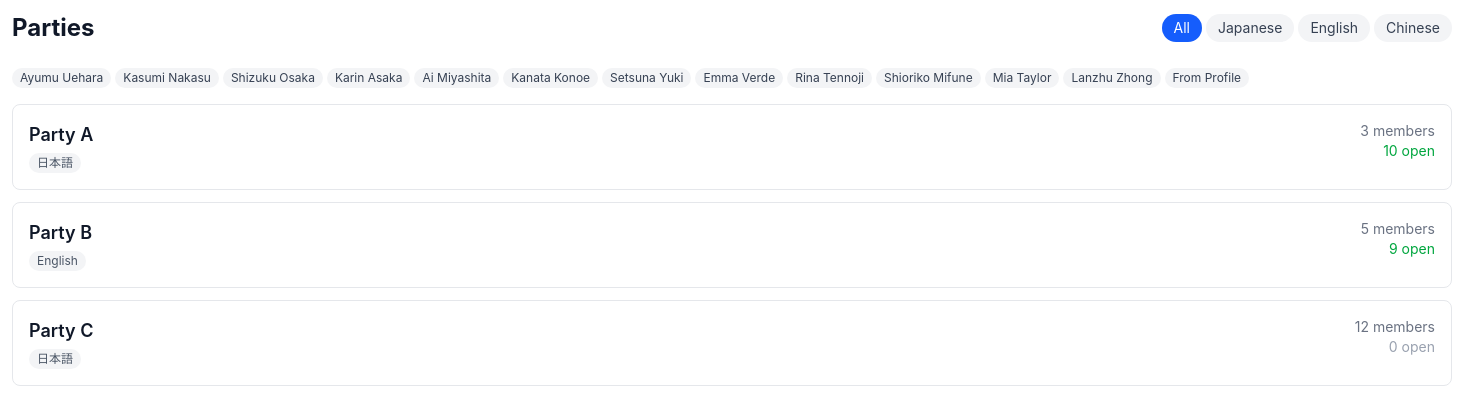
PartyList — from profile character filter › clears character filter when 'From Profile' is clicked again
Check: the heading "Party A" is shown, box [29,121,93,149]
Click the button "From Profile" at (1207, 78), box [1164,68,1249,88]
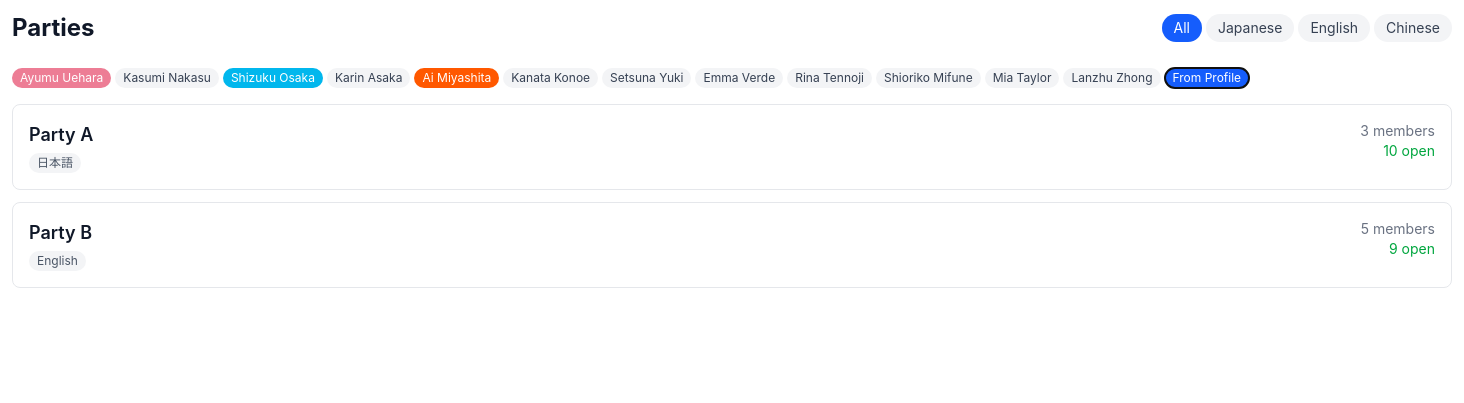
Check: the link "Party C" is gone
Click the button "From Profile" at (1207, 78), box [1164,68,1249,88]
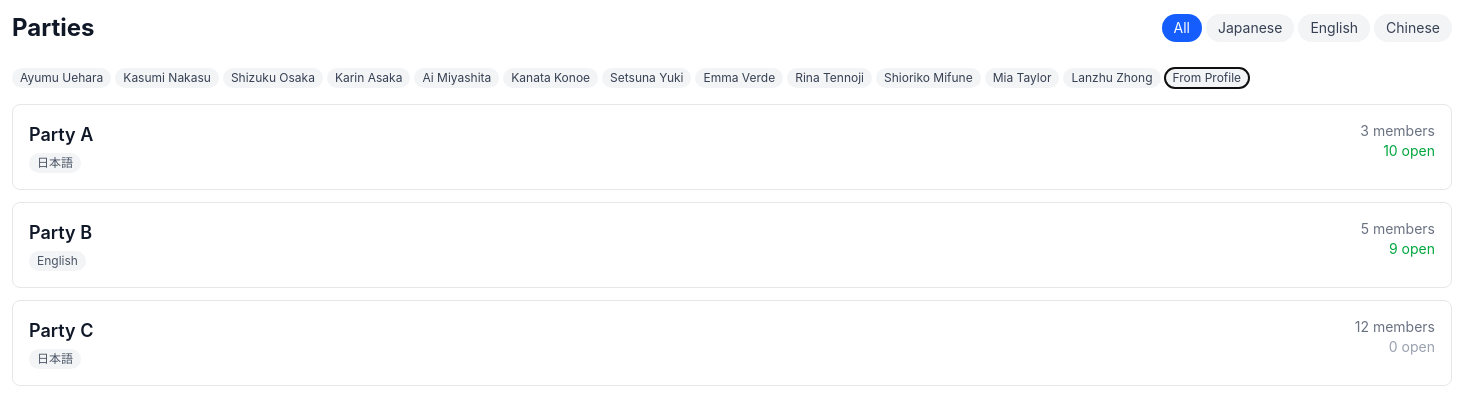
Check: the heading "Party A" is shown, box [29,121,93,149]
Check: the heading "Party C" is shown, box [29,317,93,345]
